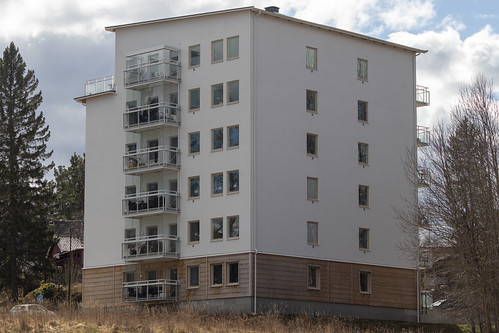building: (83, 21, 421, 318)
tree: (1, 40, 58, 306), (436, 97, 499, 333)
